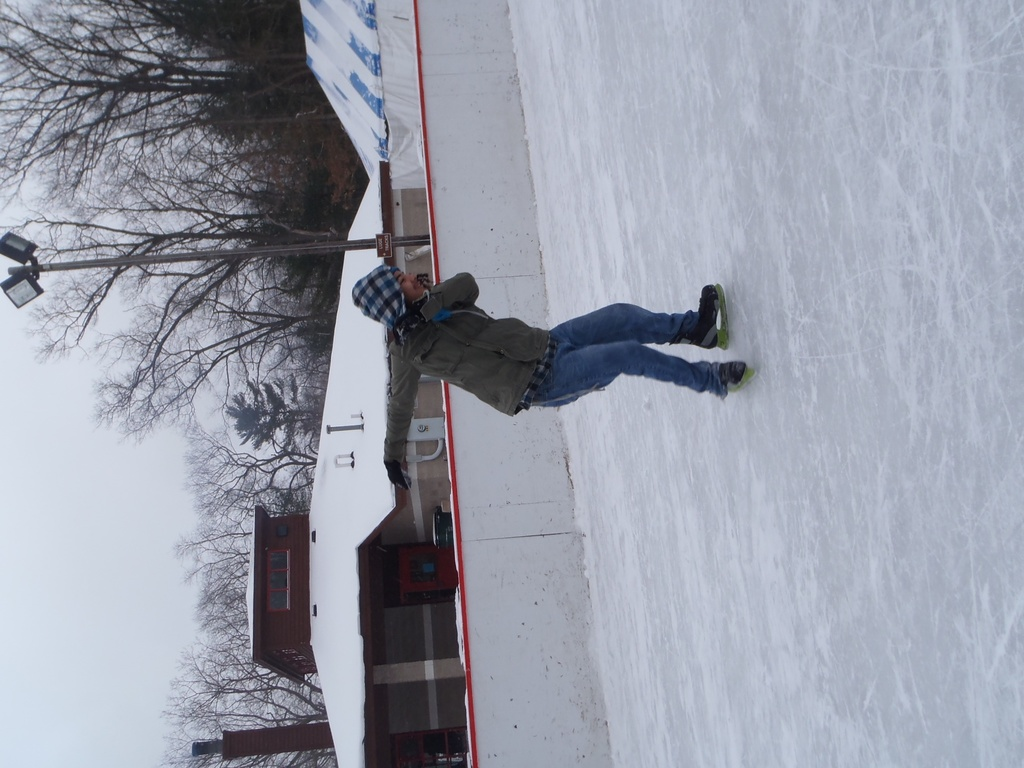Person: (350, 263, 758, 493)
